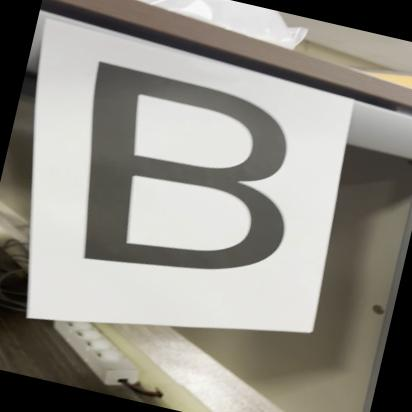seat: (44, 54, 321, 304)
